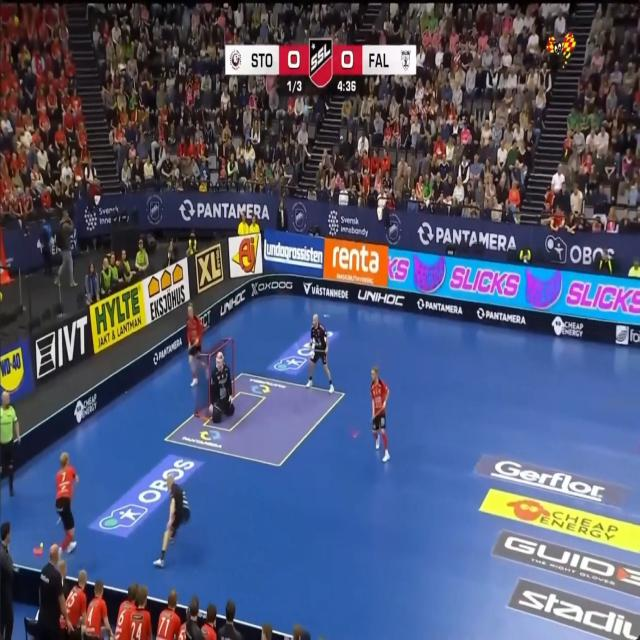Balls: (40, 542, 43, 548)
player: (153, 475, 189, 566), (55, 453, 78, 550), (306, 314, 334, 392), (370, 366, 390, 461), (209, 353, 234, 422), (85, 580, 114, 639), (186, 304, 203, 385), (114, 583, 138, 639), (156, 589, 181, 639)
